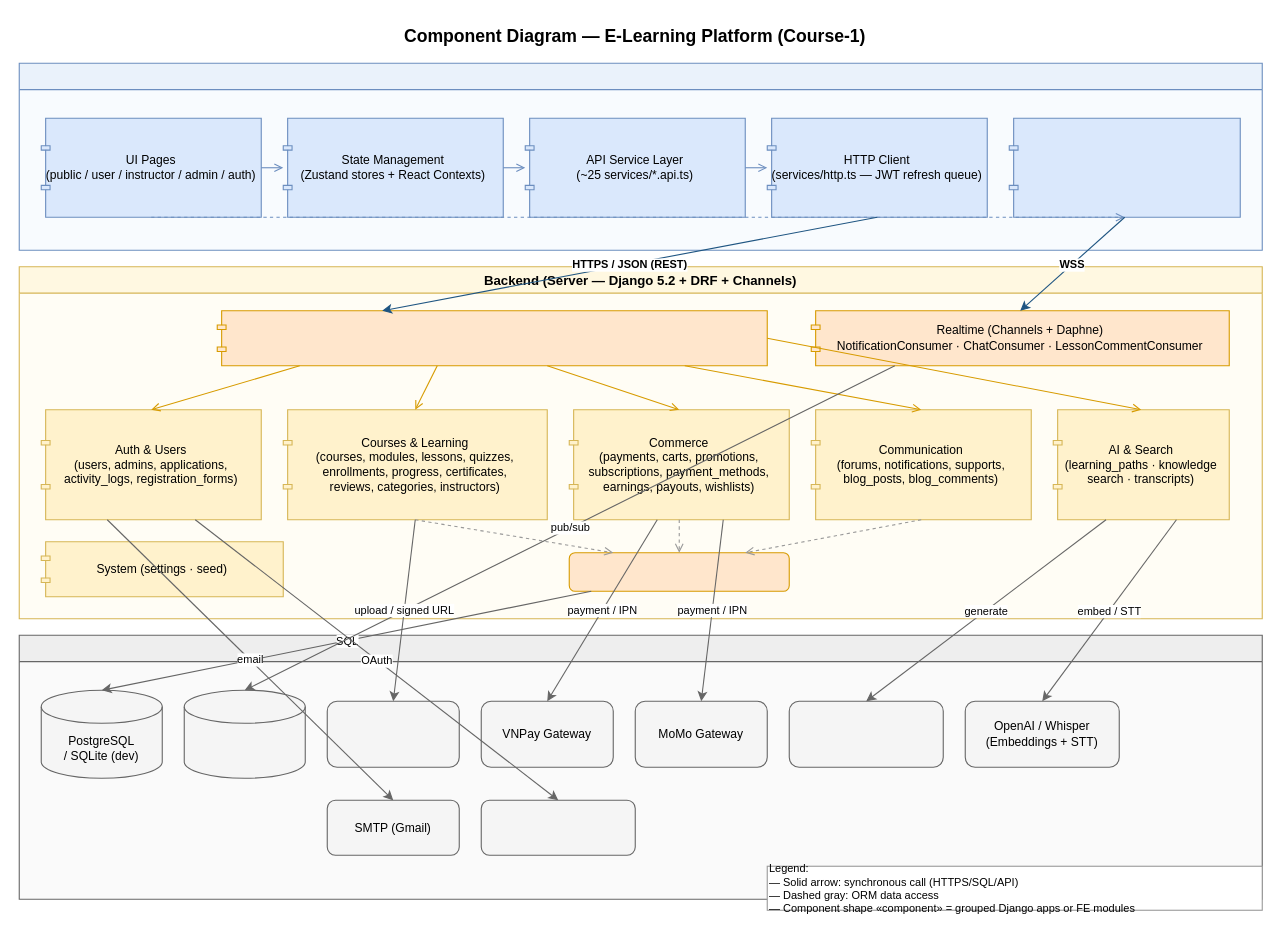
Some shapes in this 1282 by 933 pixel diagram are drawn without their labels. The shapes that lost their labels are listed below. From the top down, each one's box as (x1, y1, x2, y2) in pixels, then its label:
(18, 62, 1262, 250): Frontend (Client — React 18 + TypeScript + Vite)
(1008, 117, 1240, 217): WebSocket Client (hooks/useWebSocket.ts — auto-reconnect)
(216, 310, 767, 366): API Gateway (DRF) — /api/*
(568, 552, 789, 591): Django ORM
(183, 689, 305, 778): Redis (Channel Layer)
(326, 700, 459, 767): Cloudinary (Video/Image)
(788, 700, 943, 767): Google Gemini API (gemini-2.5-flash)
(18, 634, 1262, 899): External Services / Infrastructure
(480, 799, 635, 855): Google OAuth 2.0
